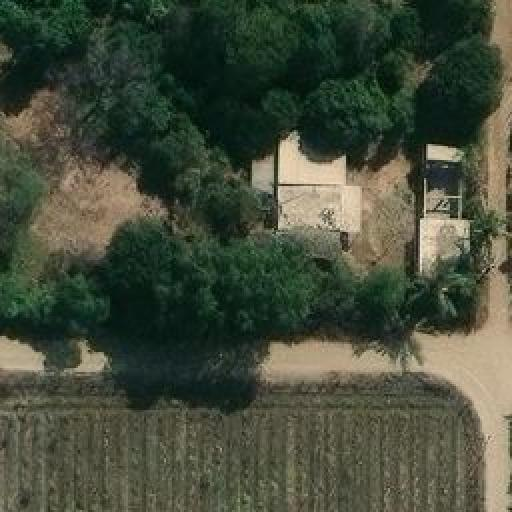manzanas: (249, 113, 476, 283)
